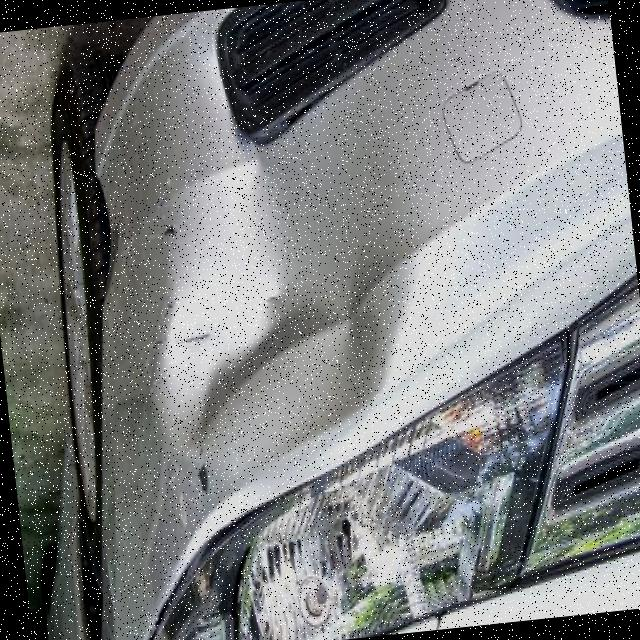Dent: (125, 131, 434, 493)
